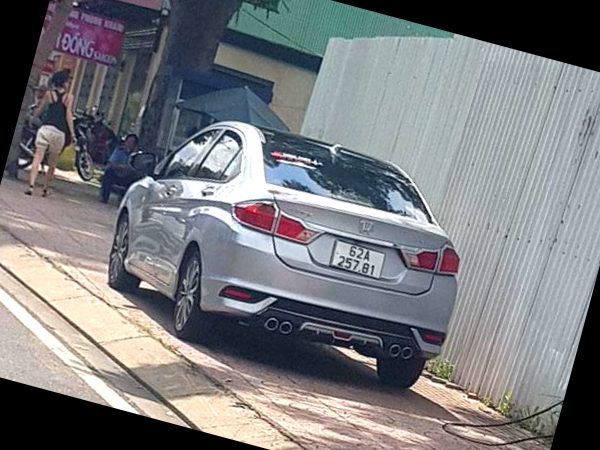lisence: (330, 238, 385, 281)
